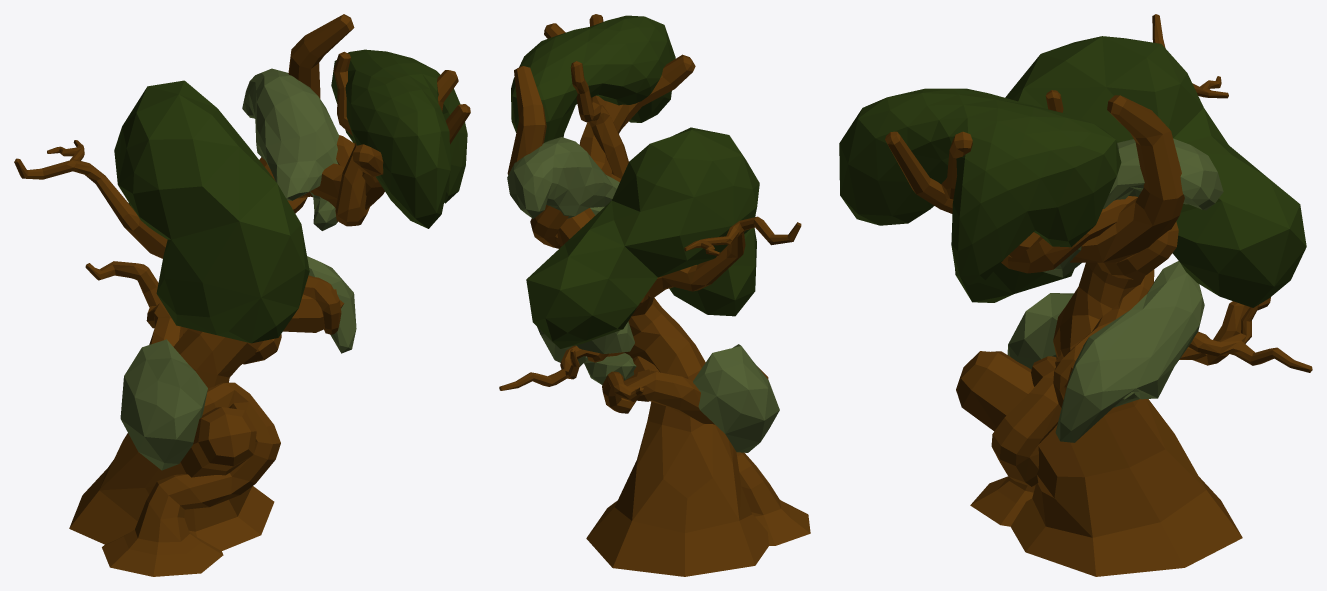
The model's file is Tree_Small_1.glb.
3 views of the same model, side by side, from view 1: azimuth 30°, elevation 25°; view 2: azimuth 150°, elevation 25°; view 3: azimuth 270°, elevation 25° (orthographic). The views are drawn at different scales.
Visible parts, largest first — view 1: Tree_Small_1; view 2: Tree_Small_1; view 3: Tree_Small_1.
Part boxes in pixels (x1,y1,x2,y2): Tree_Small_1: (14, 14, 470, 576); Tree_Small_1: (499, 14, 810, 576); Tree_Small_1: (839, 14, 1312, 576).
Bounding box in the file's own units: 5.19 × 6.16 × 5.02.
Materials: 1 (1 with a texture image).
